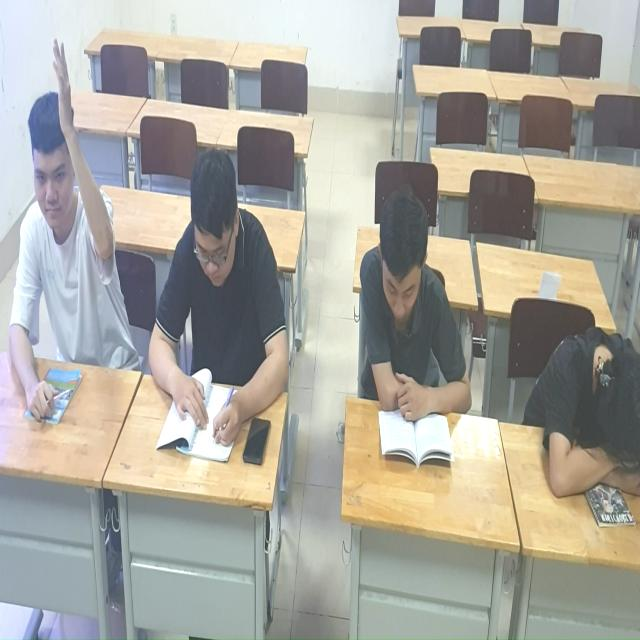raise_hand: (6, 1, 124, 437)
read: (146, 144, 296, 482), (348, 160, 482, 475)
sleep: (530, 296, 640, 525)
